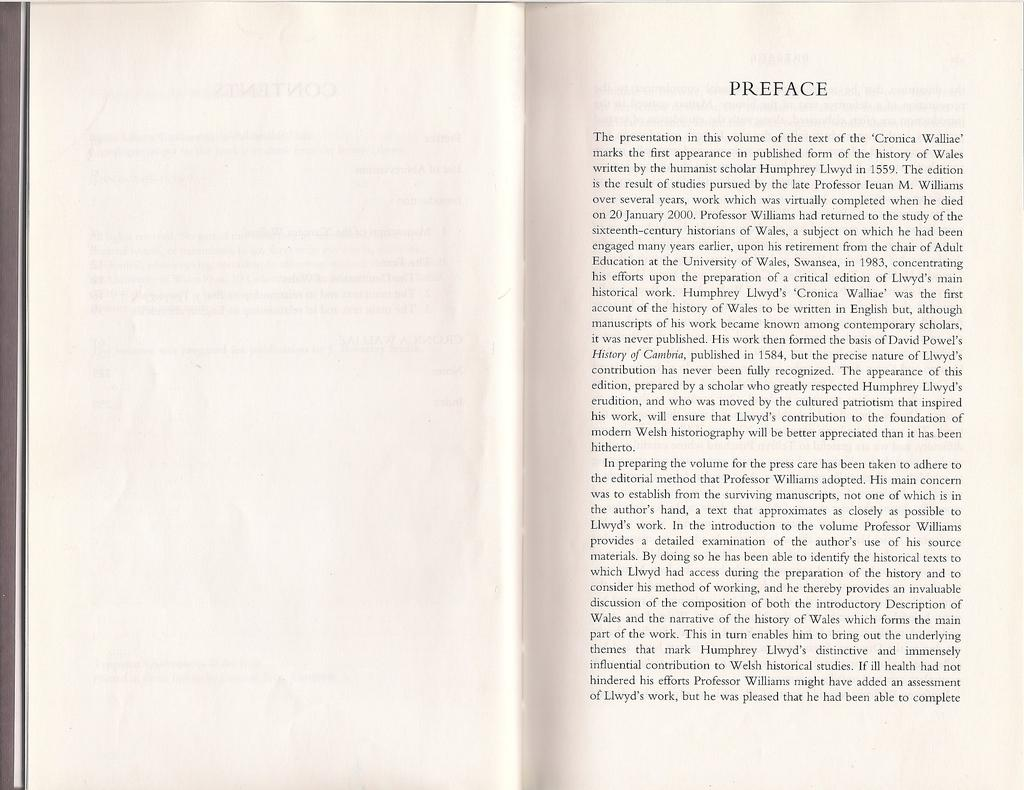book: (0, 8, 1023, 789)
